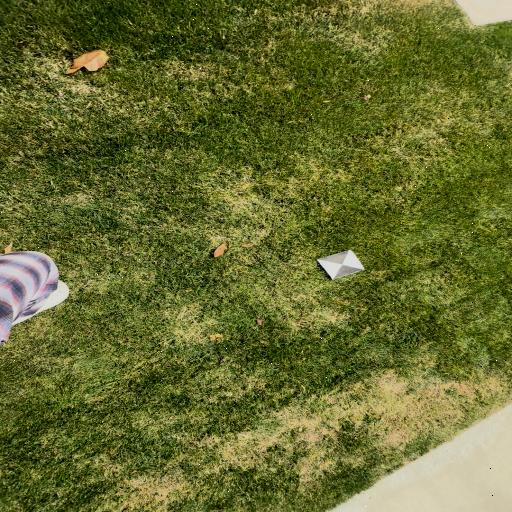target: (317, 250, 365, 279)
